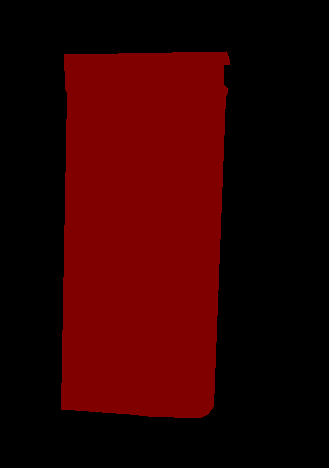sign: (61, 51, 229, 417)
